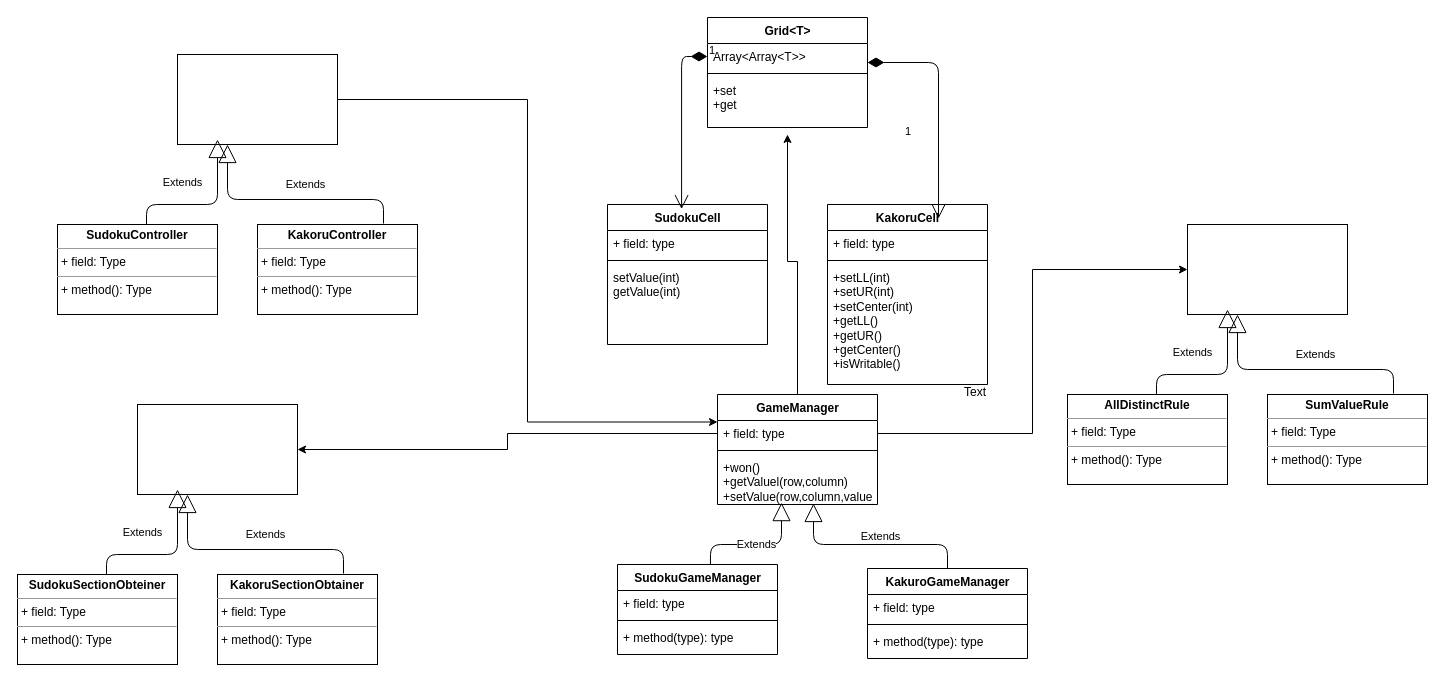
The diagram is 1445 pixels wide and 682 high, and some of its shapes have lost their labels. Each missing label, with the centre of its shape:
"Controller + field: Type +" goes at (257,99).
"Rule + field: Type + check() + setValues(Array<int>)" goes at (1267,269).
"SectionObtainer + field: Type" goes at (217,449).
